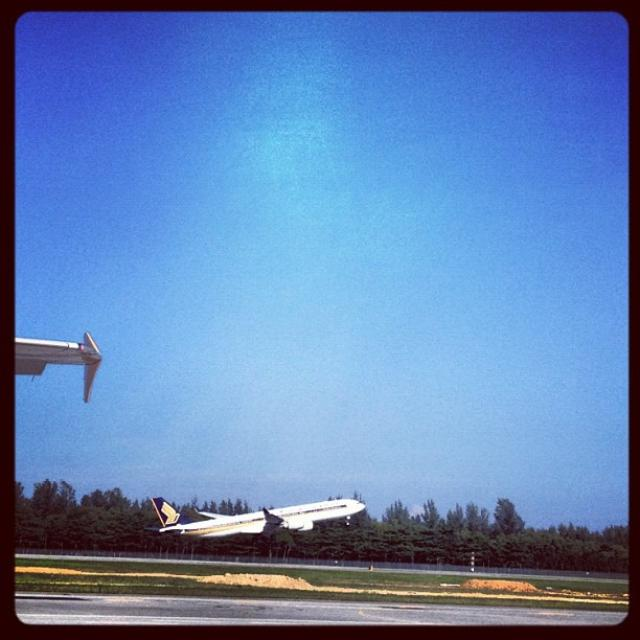airplane: (142, 493, 369, 542)
